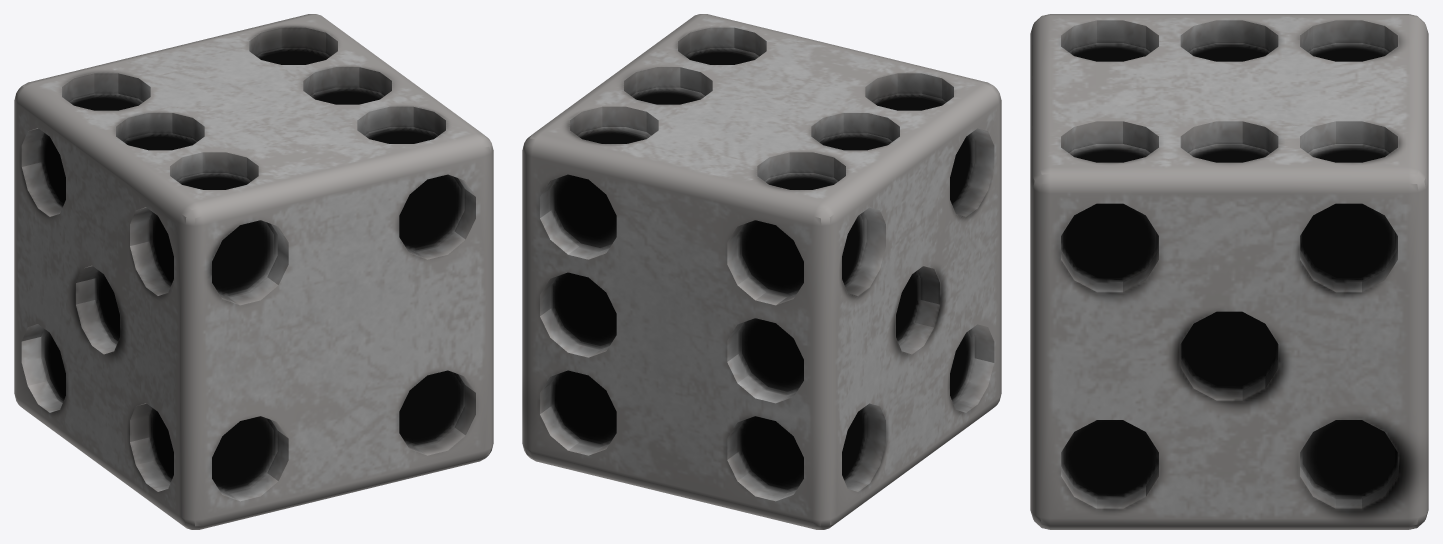
Rendered from さいころ(w_456).fbx.
3 renders of one model, left to right at view 1: azimuth 30°, elevation 25°; view 2: azimuth 150°, elevation 25°; view 3: azimuth 270°, elevation 25°, orthographic. The views are drawn at different scales.
Parts seen in each view (by area): view 1: polySurface4; view 2: polySurface4; view 3: polySurface4.
Boxes of the visible parts, x1=… form: polySurface4: x1=14, y1=14, x2=493, y2=529; polySurface4: x1=522, y1=14, x2=1001, y2=529; polySurface4: x1=1030, y1=14, x2=1428, y2=529.
Size of the model in its own units: 1 by 1 by 1.
Materials: 1 (1 with a texture image).
